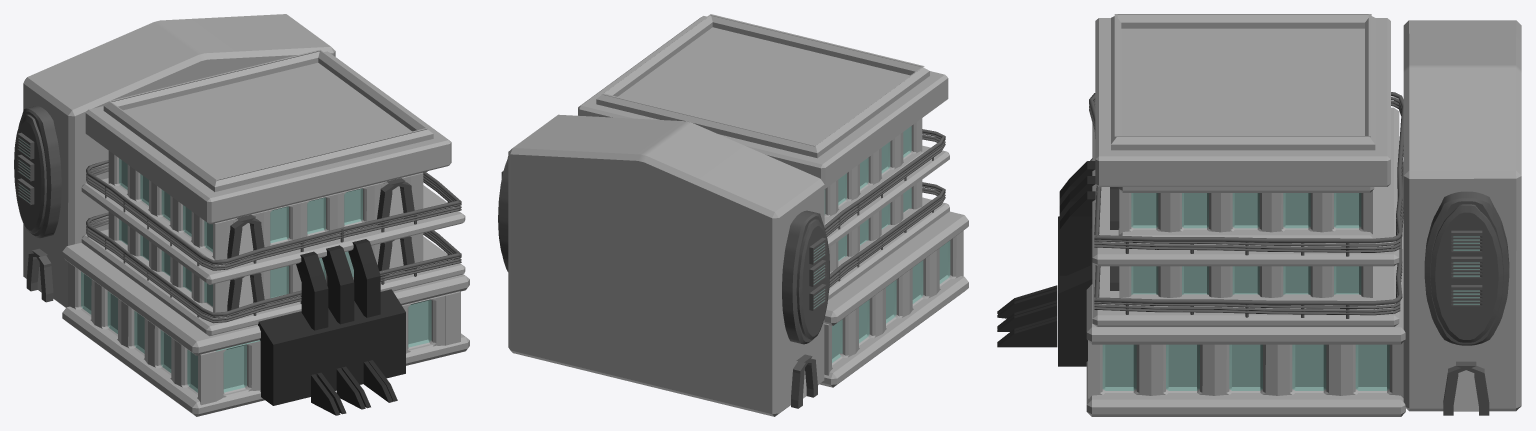
File: Apartment building new.fbx
The picture shows the model from 3 angles, left to right: view 1: azimuth 30°, elevation 25°; view 2: azimuth 150°, elevation 25°; view 3: azimuth 270°, elevation 25°; orthographic projection. The views are drawn at different scales.
Parts seen in each view (by area): view 1: polySurface4463; view 2: polySurface4463; view 3: polySurface4463.
Boxes of the visible parts, x1=… form: polySurface4463: x1=14, y1=14, x2=469, y2=416; polySurface4463: x1=498, y1=14, x2=968, y2=416; polySurface4463: x1=997, y1=14, x2=1521, y2=416.
Bounding box in the file's own units: 201 × 144 × 249.
